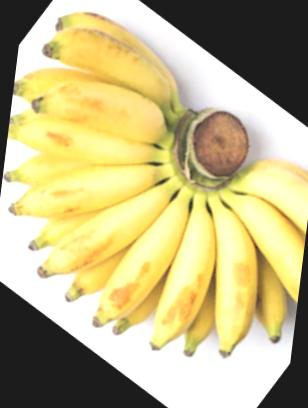Banana Ripe: (0, 0, 308, 403)
